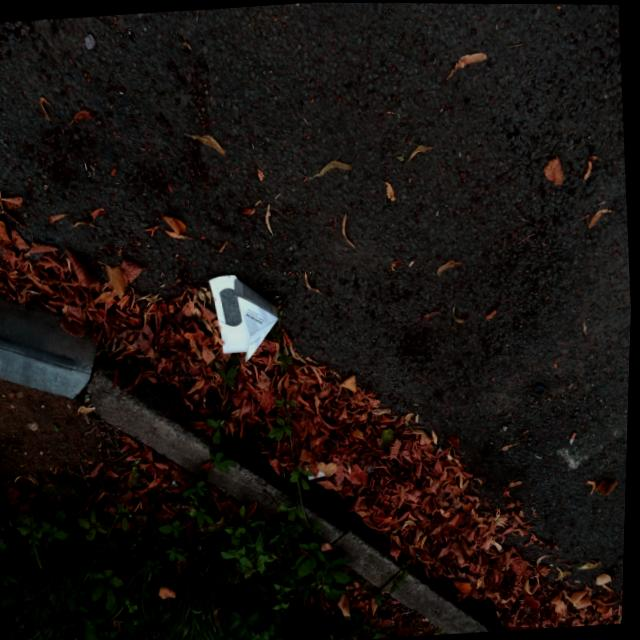Paper: (202, 263, 289, 368)
